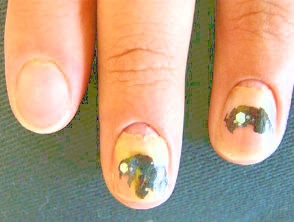SJS-TEN: (108, 115, 183, 206), (213, 71, 290, 159)
